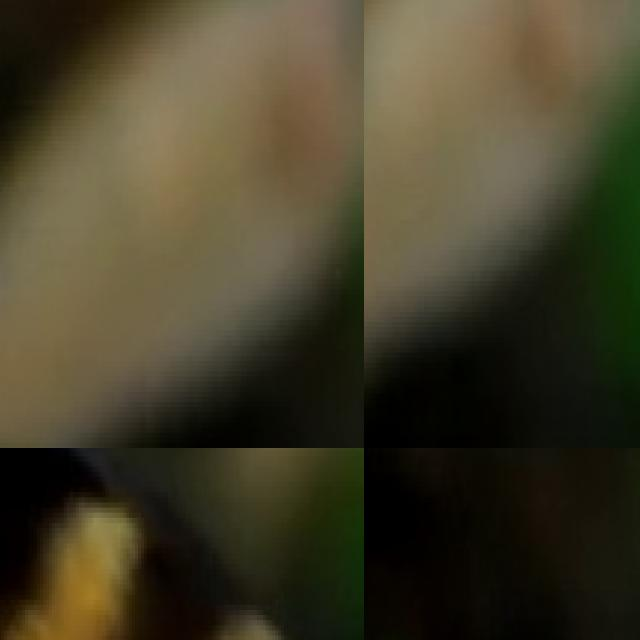fish: (0, 0, 364, 448)
